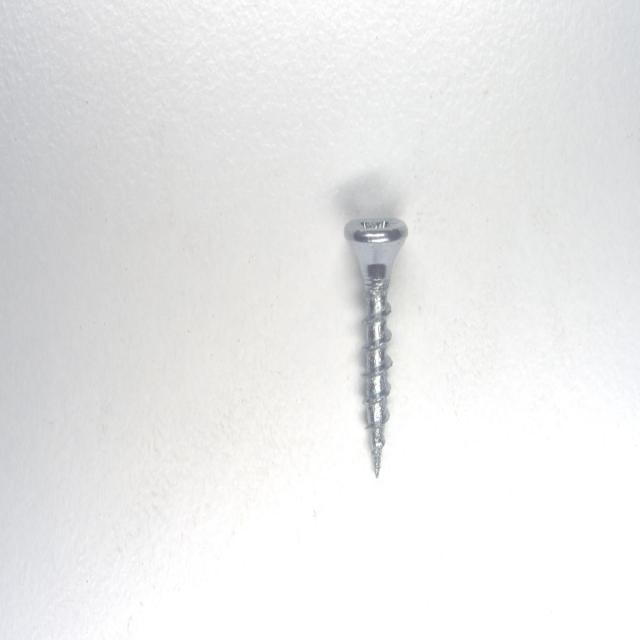Screw: (344, 217, 408, 476)
